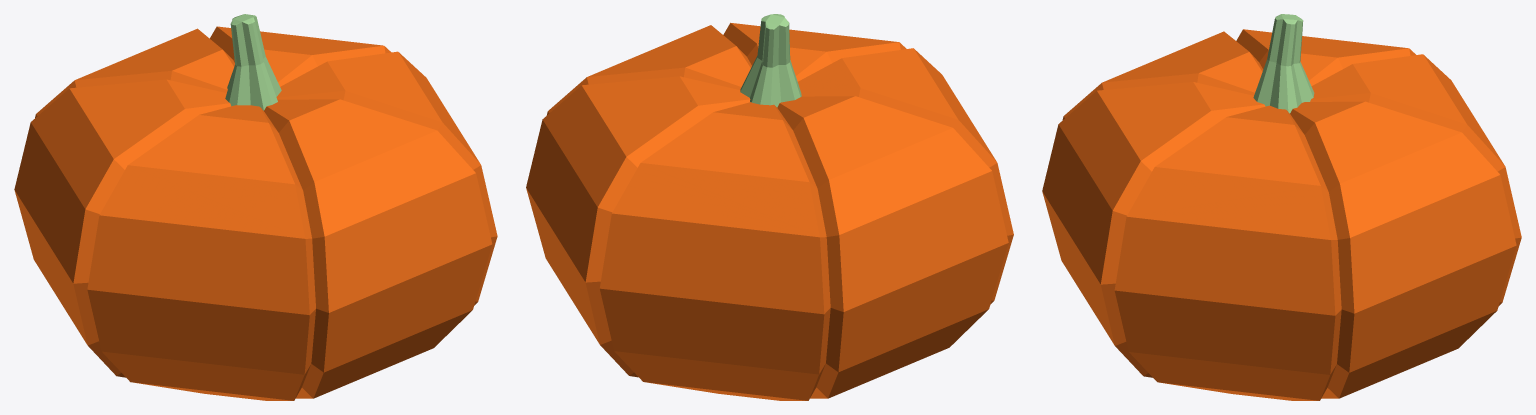
The model's file is Food_pumpkin.glb.
3 renders of one model, left to right at view 1: azimuth 30°, elevation 25°; view 2: azimuth 150°, elevation 25°; view 3: azimuth 270°, elevation 25°, orthographic.
Parts seen in each view (by area): view 1: pumpkin; view 2: pumpkin; view 3: pumpkin.
Part boxes in pixels (bbox=[...]): pumpkin: bbox=[14, 14, 497, 400]; pumpkin: bbox=[526, 14, 1013, 400]; pumpkin: bbox=[1042, 14, 1521, 400].
Bounding box in the file's own units: 0.5607 × 0.4463 × 0.5599.
Materials: 1 (1 with a texture image).
